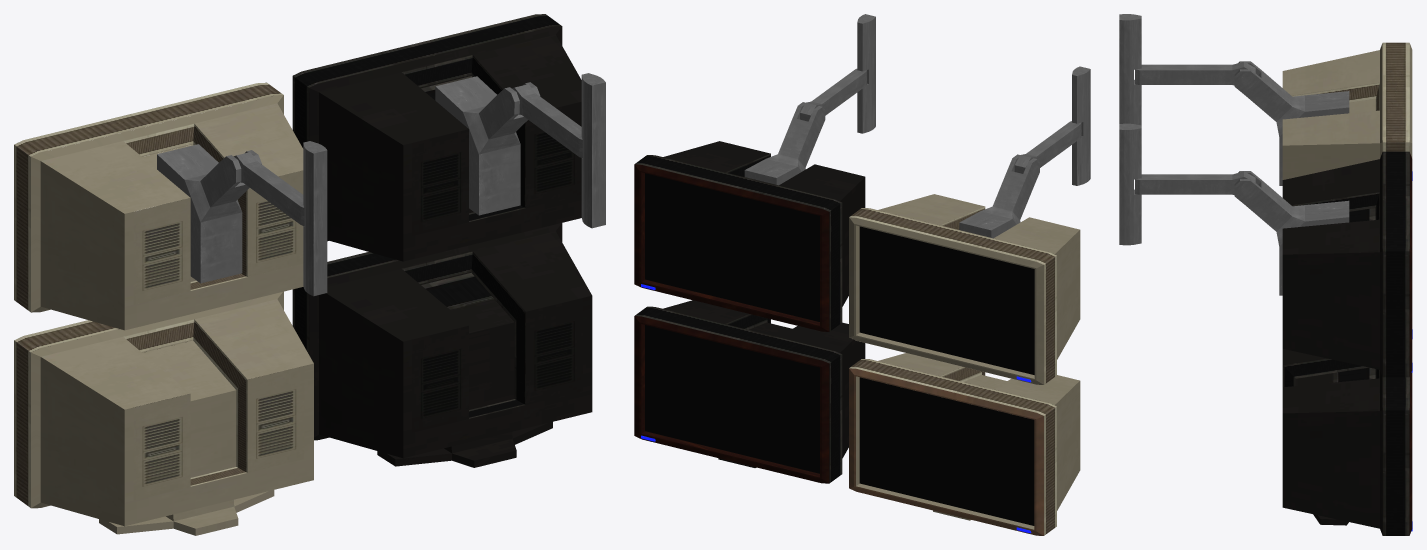
The model's file is tvs.glb.
3 views of the same model, side by side, from view 1: azimuth 30°, elevation 25°; view 2: azimuth 150°, elevation 25°; view 3: azimuth 270°, elevation 25° (orthographic). The views are drawn at different scales.
Visible parts, largest first — view 1: TV4, TV3, TV2, TV1, MetalArms; view 2: Screen4, Screen2, Screen1, Screen3, TV2, TV4, TV1, TV3, MetalArms; view 3: TV1, TV3, MetalArms, TV2.
Part boxes in pixels (x1=…): TV4: x1=14, y1=291, x2=313, y2=535; TV3: x1=292, y1=223, x2=592, y2=467; TV2: x1=14, y1=82, x2=303, y2=330; TV1: x1=292, y1=14, x2=581, y2=261; MetalArms: x1=157, y1=73, x2=605, y2=296; Screen4: x1=859, y1=377, x2=1034, y2=525; Screen2: x1=859, y1=226, x2=1034, y2=374; Screen1: x1=645, y1=173, x2=819, y2=321; Screen3: x1=645, y1=325, x2=819, y2=473; TV2: x1=849, y1=194, x2=1080, y2=384; TV4: x1=849, y1=353, x2=1080, y2=535; TV1: x1=634, y1=141, x2=865, y2=331; TV3: x1=634, y1=300, x2=865, y2=483; MetalArms: x1=744, y1=14, x2=1090, y2=238; TV1: x1=1282, y1=151, x2=1412, y2=377; TV3: x1=1282, y1=349, x2=1412, y2=535; MetalArms: x1=1119, y1=14, x2=1349, y2=295; TV2: x1=1282, y1=42, x2=1412, y2=179.
Bounding box in the file's own units: 7.64 × 6.24 × 4.52.
Materials: 8 (6 with a texture image).
